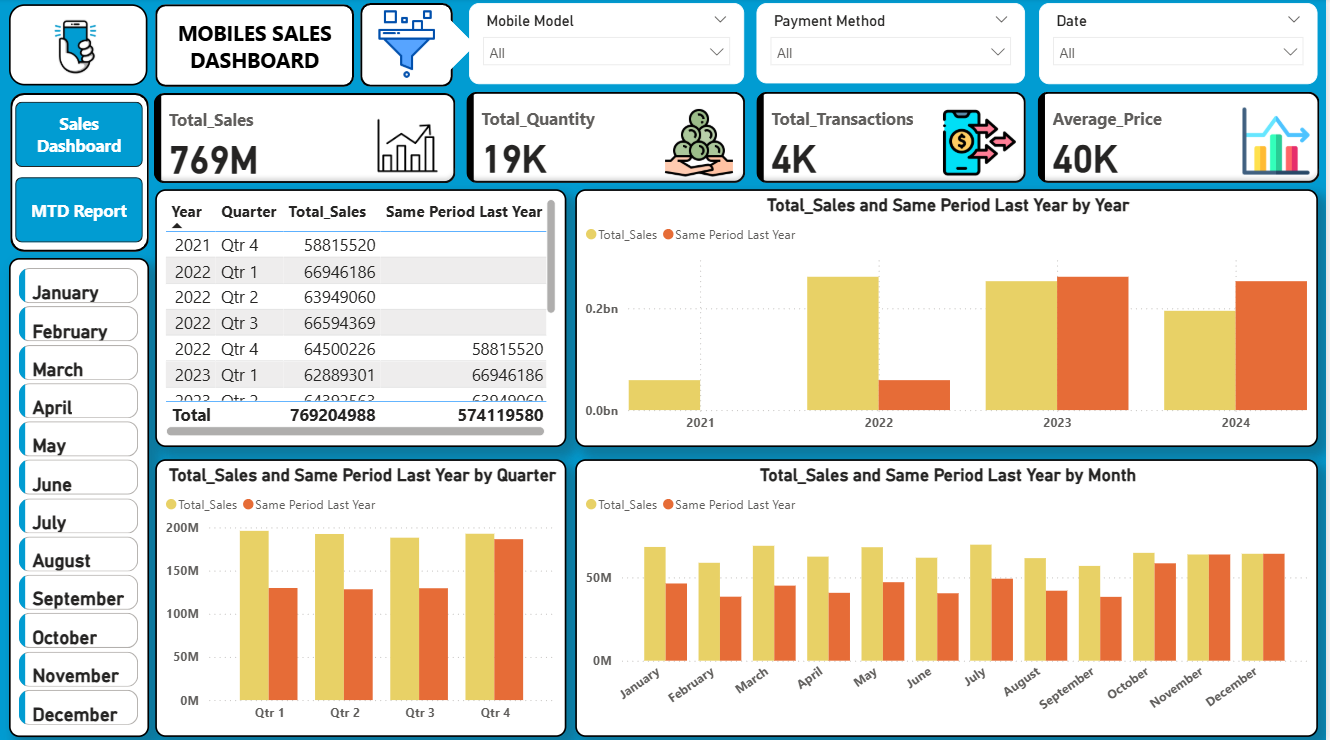

What the dashboard file says about the page in this screenshot:
{"tool":"powerbi","page":{"name":"Same Period Last Year","canvas":[1280,720],"ordinal":2},"visuals":[{"type":"textbox","box":[9.7,6,133.9,78.4],"z":0},{"type":"advancedSlicerVisual","fields":{"Values":["Custom_calendar.Date.Variation.Date Hierarchy.Month"]},"box":[9.7,250.9,135.1,462.1],"z":1000},{"type":"cardVisual","fields":{"Data":["Sales.Total_Sales"]},"box":[144.8,86.9,301.6,97.7],"z":2000},{"type":"cardVisual","fields":{"Data":["Sales.Total_Quantity"]},"box":[446.4,85.7,279.9,98.9],"z":3000},{"type":"cardVisual","fields":{"Data":["Sales.Total_Transactions"]},"box":[726.3,85.7,270.2,98.9],"z":4000},{"type":"cardVisual","fields":{"Data":["Sales.Total_Average"]},"box":[997.7,85.7,282.3,98.9],"z":5000},{"type":"image","box":[24.1,8.4,98.9,77.2],"z":13000},{"type":"shape","box":[10.9,91.7,133.9,153.2],"z":14000},{"type":"shape","box":[150.8,6,191.8,79.6],"z":17000},{"type":"shape","box":[348.7,4.8,89.3,80.8],"z":18000},{"type":"image","box":[348.7,6,89.3,77.2],"z":19000},{"type":"shape","box":[400.5,20.5,59.1,49.5],"z":20000},{"type":"slicer","fields":{"Values":["Sales.Mobile Model"]},"box":[453.6,4.8,265.4,78.4],"z":21000},{"type":"slicer","fields":{"Values":["Sales.Payment Method"]},"box":[731.1,4.8,259.4,77.2],"z":22000},{"type":"slicer","fields":{"Values":["Custom_calendar.Date.Variation.Date Hierarchy.Year","Custom_calendar.Date.Variation.Date Hierarchy.Quarter","Custom_calendar.Date.Variation.Date Hierarchy.Month","Custom_calendar.Date.Variation.Date Hierarchy.Day"]},"box":[1003.8,4.8,269,78.4],"z":23000},{"type":"tableEx","fields":{"Values":["Custom_calendar.Date.Variation.Date Hierarchy.Year","Custom_calendar.Date.Variation.Date Hierarchy.Quarter","Sales.Total_Sales","Sales.Same Period Last Year"]},"box":[150.8,184.6,396.9,248.5],"z":23001},{"type":"clusteredColumnChart","fields":{"Category":["Custom_calendar.Date.Variation.Date Hierarchy.Year","Custom_calendar.Date.Variation.Date Hierarchy.Quarter"],"Y":["Sales.Total_Sales","Sales.Same Period Last Year"]},"box":[556.2,184.6,716.6,248.5],"z":23002},{"type":"clusteredColumnChart","fields":{"Category":["Custom_calendar.Date.Variation.Date Hierarchy.Year","Custom_calendar.Date.Variation.Date Hierarchy.Quarter"],"Y":["Sales.Total_Sales","Sales.Same Period Last Year"]},"box":[150.8,445.2,396.9,267.8],"z":23003},{"type":"clusteredColumnChart","fields":{"Y":["Sales.Total_Sales","Sales.Same Period Last Year"],"Category":["Custom_calendar.Date.Variation.Date Hierarchy.Year","Custom_calendar.Date.Variation.Date Hierarchy.Quarter","Custom_calendar.Date.Variation.Date Hierarchy.Month","Custom_calendar.Date.Variation.Date Hierarchy.Day"]},"box":[556.2,445.2,716.6,267.8],"z":23004},{"type":"pageNavigator","box":[15.7,100.1,123.1,136.3],"z":23005}]}

Visuals, with their boxes in screenshot pixels (x1, y1, x2, y2), scaled from the page's 1280x720 canvas onto the 1330x740 screenshot:
textbox: {"x1": 10, "y1": 6, "x2": 149, "y2": 87}
advancedSlicerVisual - Custom_calendar.Date.Variation.Date Hierarchy.Month: {"x1": 10, "y1": 258, "x2": 150, "y2": 733}
cardVisual - Sales.Total_Sales: {"x1": 150, "y1": 89, "x2": 464, "y2": 190}
cardVisual - Sales.Total_Quantity: {"x1": 464, "y1": 88, "x2": 755, "y2": 190}
cardVisual - Sales.Total_Transactions: {"x1": 755, "y1": 88, "x2": 1035, "y2": 190}
cardVisual - Sales.Total_Average: {"x1": 1037, "y1": 88, "x2": 1329, "y2": 190}
image: {"x1": 25, "y1": 9, "x2": 128, "y2": 88}
shape: {"x1": 11, "y1": 94, "x2": 150, "y2": 252}
shape: {"x1": 157, "y1": 6, "x2": 356, "y2": 88}
shape: {"x1": 362, "y1": 5, "x2": 455, "y2": 88}
image: {"x1": 362, "y1": 6, "x2": 455, "y2": 86}
shape: {"x1": 416, "y1": 21, "x2": 478, "y2": 72}
slicer - Sales.Mobile Model: {"x1": 471, "y1": 5, "x2": 747, "y2": 86}
slicer - Sales.Payment Method: {"x1": 760, "y1": 5, "x2": 1029, "y2": 84}
slicer - Custom_calendar.Date.Variation.Date Hierarchy.Year x Custom_calendar.Date.Variation.Date Hierarchy.Quarter: {"x1": 1043, "y1": 5, "x2": 1323, "y2": 86}
tableEx - Custom_calendar.Date.Variation.Date Hierarchy.Year x Custom_calendar.Date.Variation.Date Hierarchy.Quarter: {"x1": 157, "y1": 190, "x2": 569, "y2": 445}
clusteredColumnChart - Custom_calendar.Date.Variation.Date Hierarchy.Year x Custom_calendar.Date.Variation.Date Hierarchy.Quarter: {"x1": 578, "y1": 190, "x2": 1323, "y2": 445}
clusteredColumnChart - Custom_calendar.Date.Variation.Date Hierarchy.Year x Custom_calendar.Date.Variation.Date Hierarchy.Quarter: {"x1": 157, "y1": 458, "x2": 569, "y2": 733}
clusteredColumnChart - Sales.Total_Sales x Sales.Same Period Last Year: {"x1": 578, "y1": 458, "x2": 1323, "y2": 733}
pageNavigator: {"x1": 16, "y1": 103, "x2": 144, "y2": 243}
